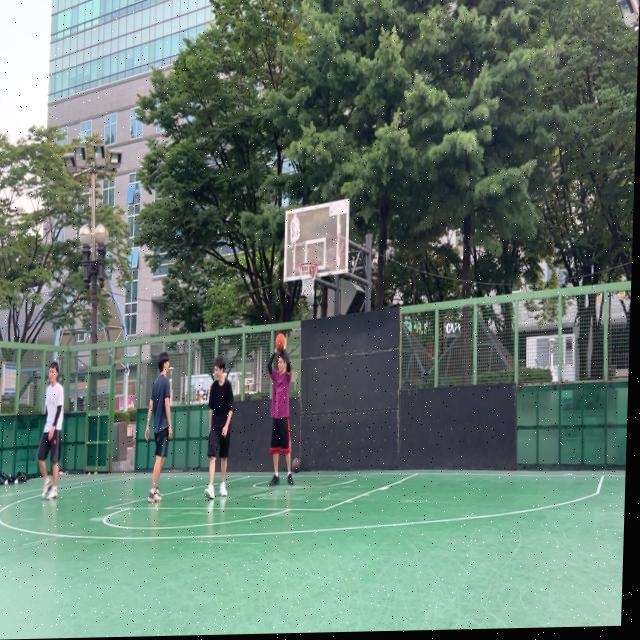basketball: (275, 333, 286, 352), (292, 457, 301, 473)
hoop: (297, 261, 318, 297)
